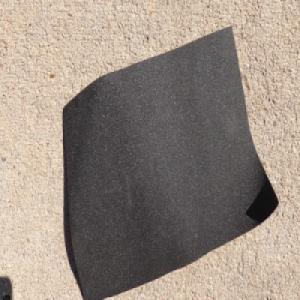PaintChip: (58, 16, 282, 286)
